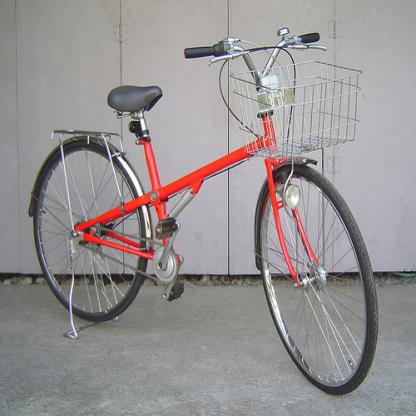bicycle: (32, 32, 380, 394)
